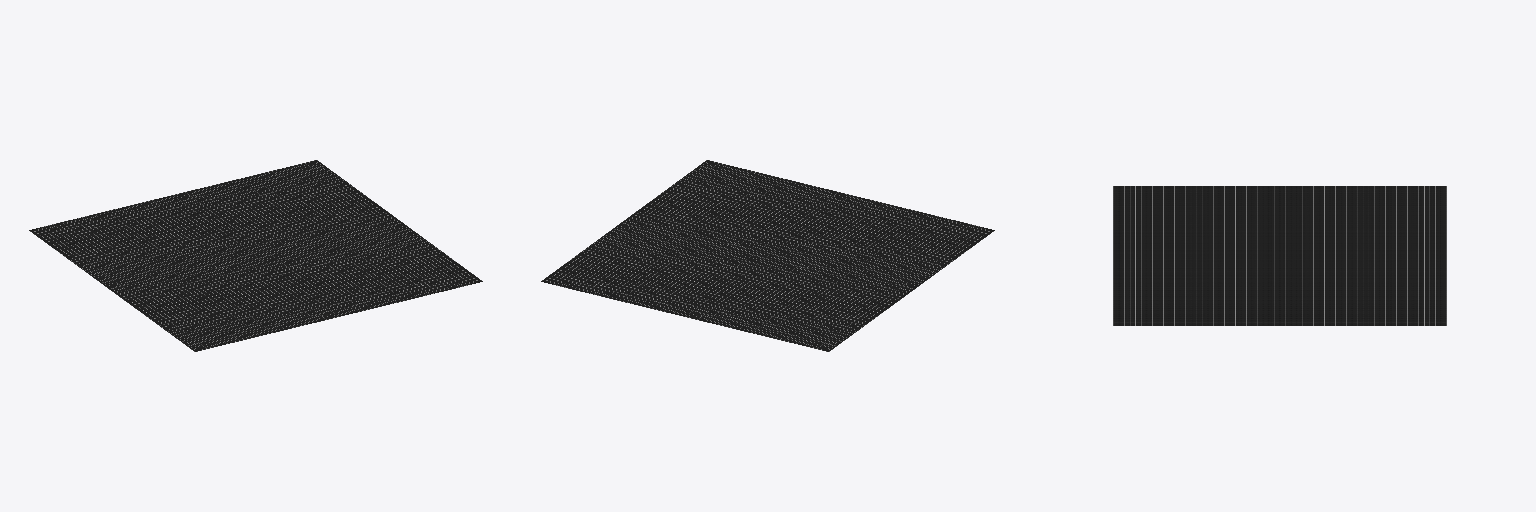
The picture shows the model from 3 angles: view 1: azimuth 30°, elevation 25°; view 2: azimuth 150°, elevation 25°; view 3: azimuth 270°, elevation 25°; orthographic projection.
Visible parts, largest first — view 1: Plane; view 2: Plane; view 3: Plane.
Boxes of the visible parts, x1,y1,x2,y2 form: Plane: [29, 160, 482, 351]; Plane: [541, 160, 994, 351]; Plane: [1113, 186, 1446, 325].
Size of the model in its own units: 10000 by 0 by 10000.
1 materials, 1 textured.